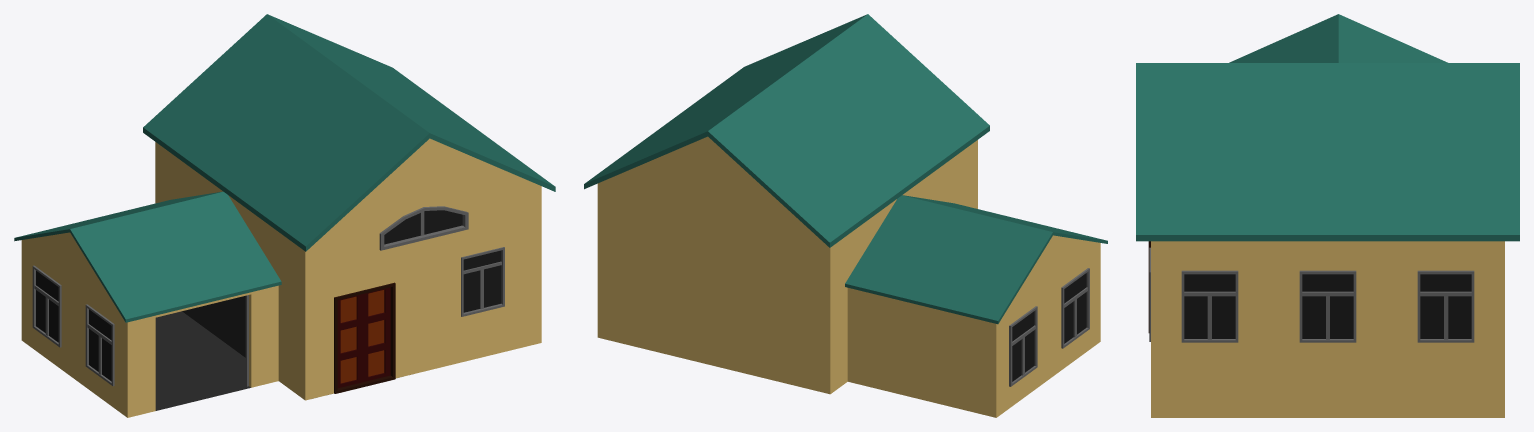
The model's file is House_8.fbx.
3 views of the same model, side by side, from view 1: azimuth 30°, elevation 25°; view 2: azimuth 150°, elevation 25°; view 3: azimuth 270°, elevation 25° (orthographic). The views are drawn at different scales.
Visible parts, largest first — view 1: House, Parking; view 2: House, Parking; view 3: House, Parking.
Part boxes in pixels (<box>): House: <box>143,14,555,400</box>; Parking: <box>14,191,281,417</box>; House: <box>584,14,989,394</box>; Parking: <box>845,195,1107,417</box>; House: <box>1136,63,1519,417</box>; Parking: <box>1229,14,1447,62</box>.
Size of the model in its own units: 923 by 537 by 651.
